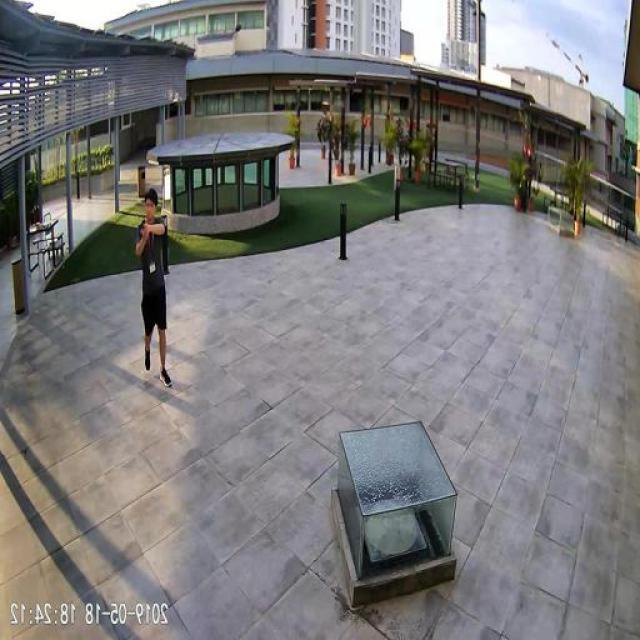weapon: (136, 222, 148, 238)
